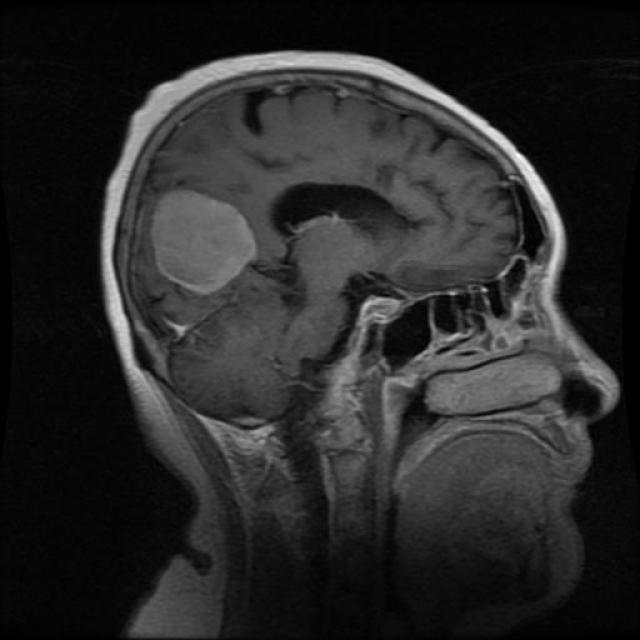Tumor: (142, 185, 262, 294)
